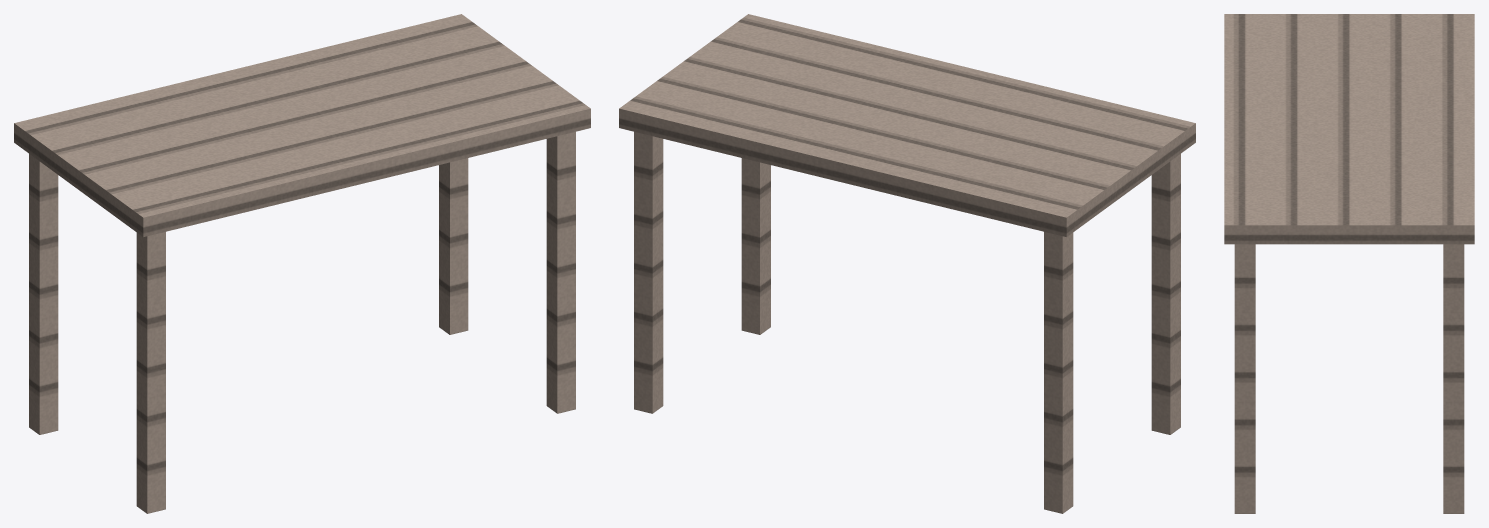
Rendered from home_office_desk.glb.
3 renders of one model, left to right at view 1: azimuth 30°, elevation 25°; view 2: azimuth 150°, elevation 25°; view 3: azimuth 270°, elevation 25°, orthographic. The views are drawn at different scales.
Parts seen in each view (by area): view 1: home_office_desk-col; view 2: home_office_desk-col; view 3: home_office_desk-col.
Boxes of the visible parts, x1,y1,x2,y2 form: home_office_desk-col: [14, 14, 590, 513]; home_office_desk-col: [619, 14, 1195, 513]; home_office_desk-col: [1224, 14, 1474, 513].
Bounding box in the file's own units: 1.2 × 0.775 × 0.6.
1 material, 1 textured.
